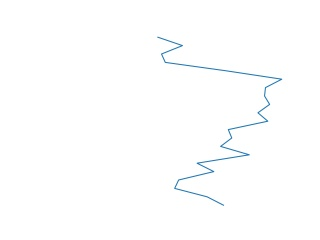floodPlain: (156, 35, 284, 209)
